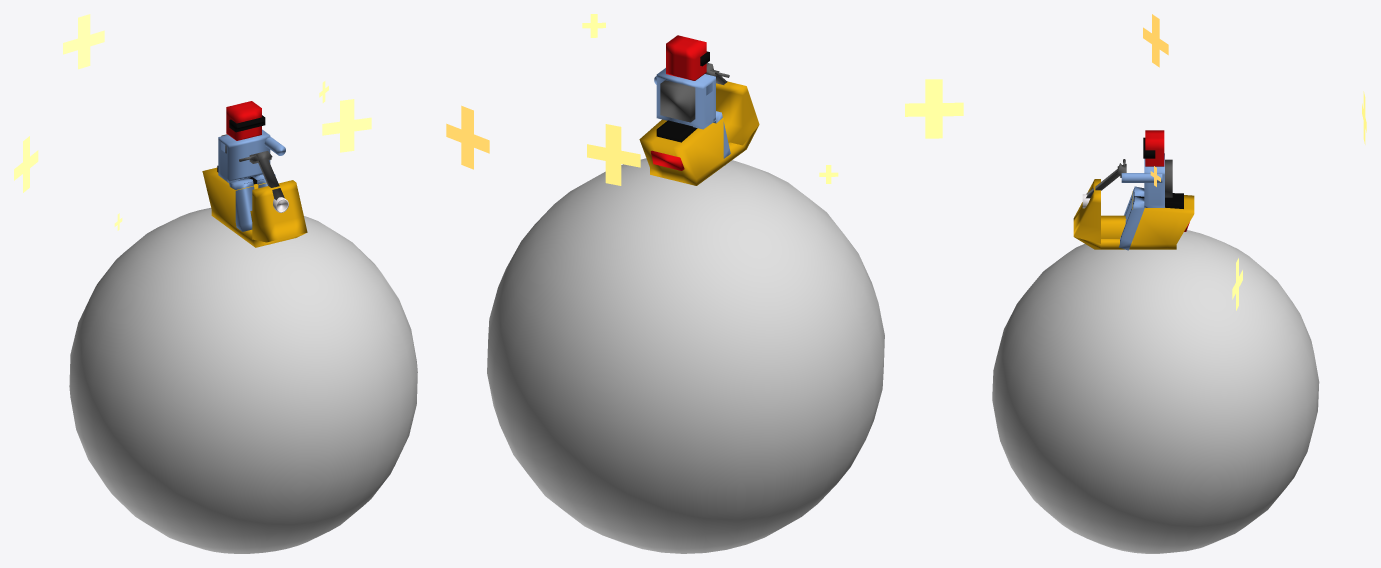
File: ดวงจันทร์.glb
3 views of the same model, side by side, from view 1: azimuth 30°, elevation 25°; view 2: azimuth 150°, elevation 25°; view 3: azimuth 270°, elevation 25° (orthographic). The views are drawn at different scales.
Visible parts, largest first — view 1: ทรงกลม, ทรงกระบอก021, ระนาบ005, ระนาบ003, ระนาบ001; view 2: ทรงกลม, ทรงกระบอก021, ระนาบ001, ระนาบ003, ระนาบ005; view 3: ทรงกลม, ทรงกระบอก021, ระนาบ001.
Boxes of the visible parts, x1,y1,x2,y2 form: ทรงกลม: (69, 208, 417, 553); ทรงกระบอก021: (202, 101, 307, 247); ระนาบ005: (322, 99, 371, 152); ระนาบ003: (63, 14, 104, 69); ระนาบ001: (14, 136, 38, 192); ทรงกลม: (487, 158, 884, 553); ทรงกระบอก021: (639, 35, 759, 185); ระนาบ001: (905, 79, 963, 138); ระนาบ003: (587, 124, 640, 185); ระนาบ005: (446, 105, 489, 169); ทรงกลม: (992, 230, 1319, 553); ทรงกระบอก021: (1073, 130, 1194, 250); ระนาบ001: (1143, 14, 1168, 67).
Bounding box in the file's own units: 8.75 × 9.32 × 7.48.
